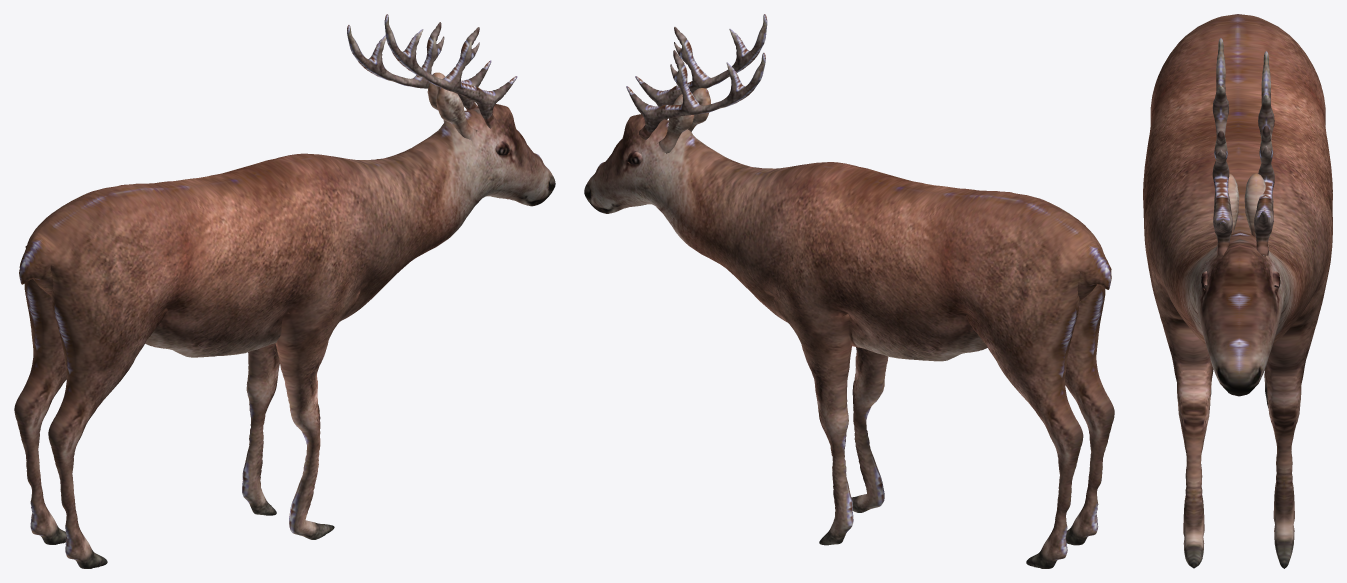
The model's file is deer_animation.glb.
3 renders of one model, left to right at view 1: azimuth 30°, elevation 25°; view 2: azimuth 150°, elevation 25°; view 3: azimuth 270°, elevation 25°, orthographic. The views are drawn at different scales.
Bounding box in the file's own units: 8.36 × 7.47 × 2.22.
Materials: 1 (1 with a texture image).
